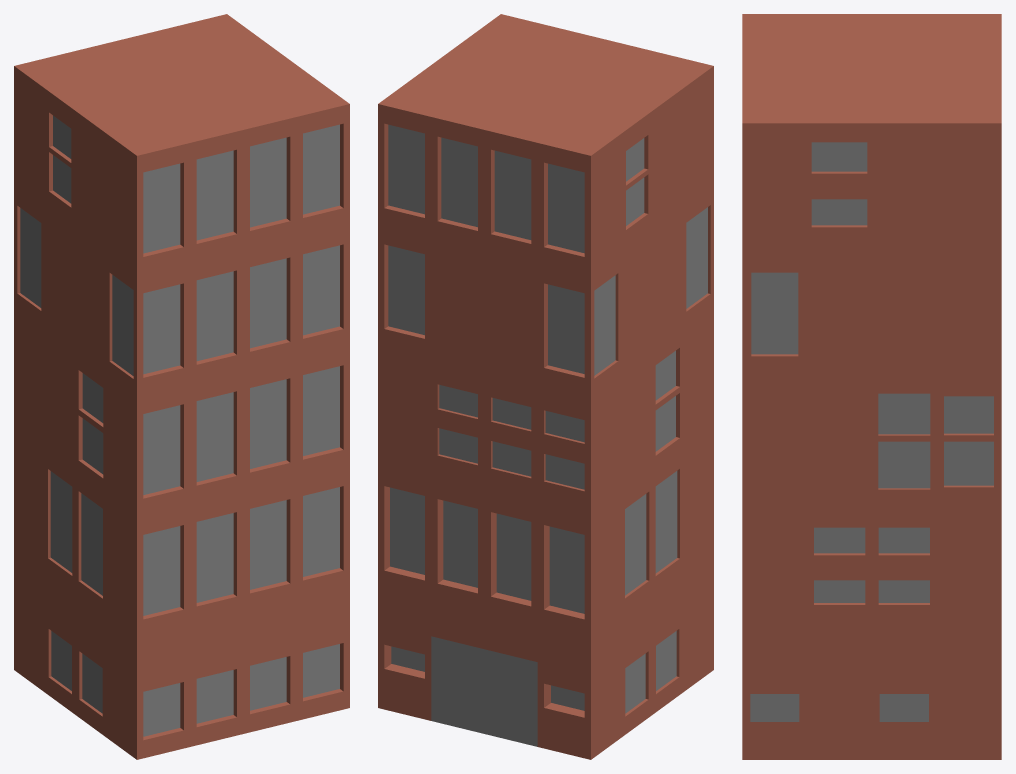
The model's file is buildingTall.fbx.
The picture shows the model from 3 angles, left to right: view 1: azimuth 30°, elevation 25°; view 2: azimuth 150°, elevation 25°; view 3: azimuth 270°, elevation 25°; orthographic projection. The views are drawn at different scales.
Parts seen in each view (by area): view 1: buildingTall1.005; view 2: buildingTall1.005; view 3: buildingTall1.005.
Part boxes in pixels (bbox=[...]): buildingTall1.005: bbox=[14, 14, 349, 759]; buildingTall1.005: bbox=[378, 14, 713, 759]; buildingTall1.005: bbox=[742, 14, 1001, 759].
Bounding box in the file's own units: 1521 × 4124 × 1521.
Materials: 2 (2 with a texture image).
